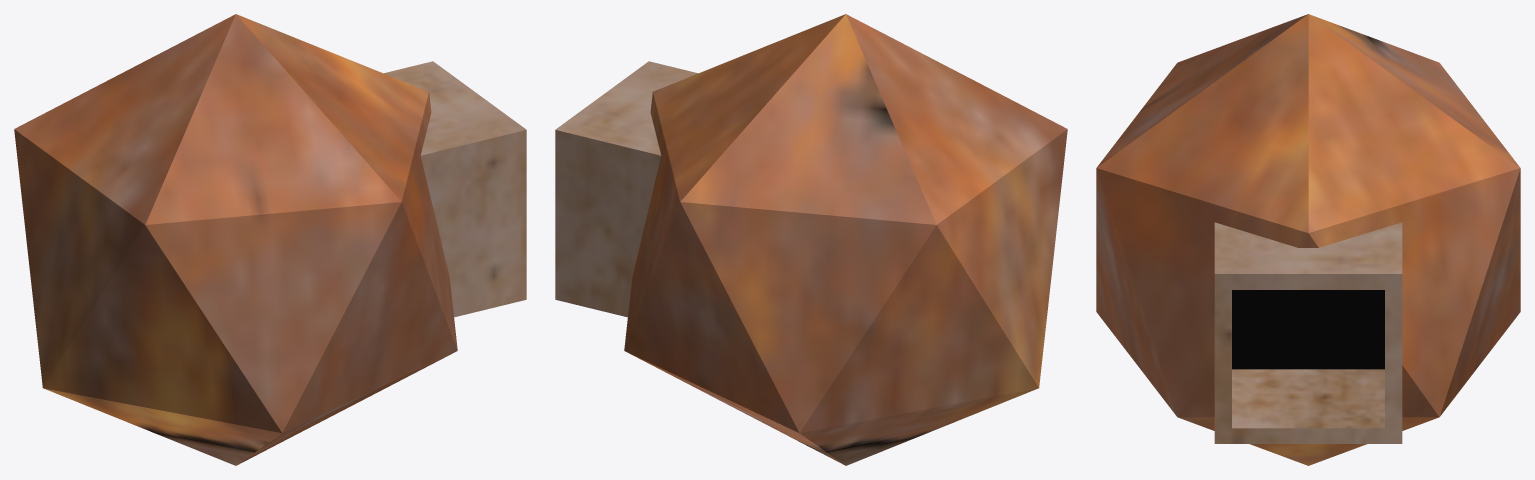
Rendered from meat_eater.glb.
3 views of the same model, side by side, from view 1: azimuth 30°, elevation 25°; view 2: azimuth 150°, elevation 25°; view 3: azimuth 270°, elevation 25° (orthographic).
Visible parts, largest first — view 1: Icosphere, Cube; view 2: Icosphere, Cube; view 3: Icosphere, Cube.
Boxes of the visible parts, x1=… form: Icosphere: x1=14, y1=14, x2=457, y2=465; Cube: x1=384, y1=61, x2=526, y2=317; Icosphere: x1=624, y1=14, x2=1067, y2=465; Cube: x1=555, y1=61, x2=697, y2=317; Icosphere: x1=1096, y1=14, x2=1520, y2=465; Cube: x1=1214, y1=222, x2=1402, y2=443.
Size of the model in its own units: 3.11 by 3.08 by 2.62.
2 materials, 2 textured.
